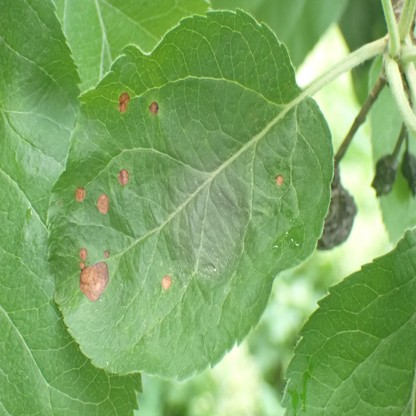frogeye_leaf_spot: (79, 260, 109, 302), (97, 192, 109, 215), (119, 92, 130, 112), (118, 168, 129, 185), (161, 274, 172, 290), (75, 186, 85, 201), (79, 247, 89, 260), (149, 102, 159, 114), (275, 174, 284, 187), (103, 250, 110, 258)
